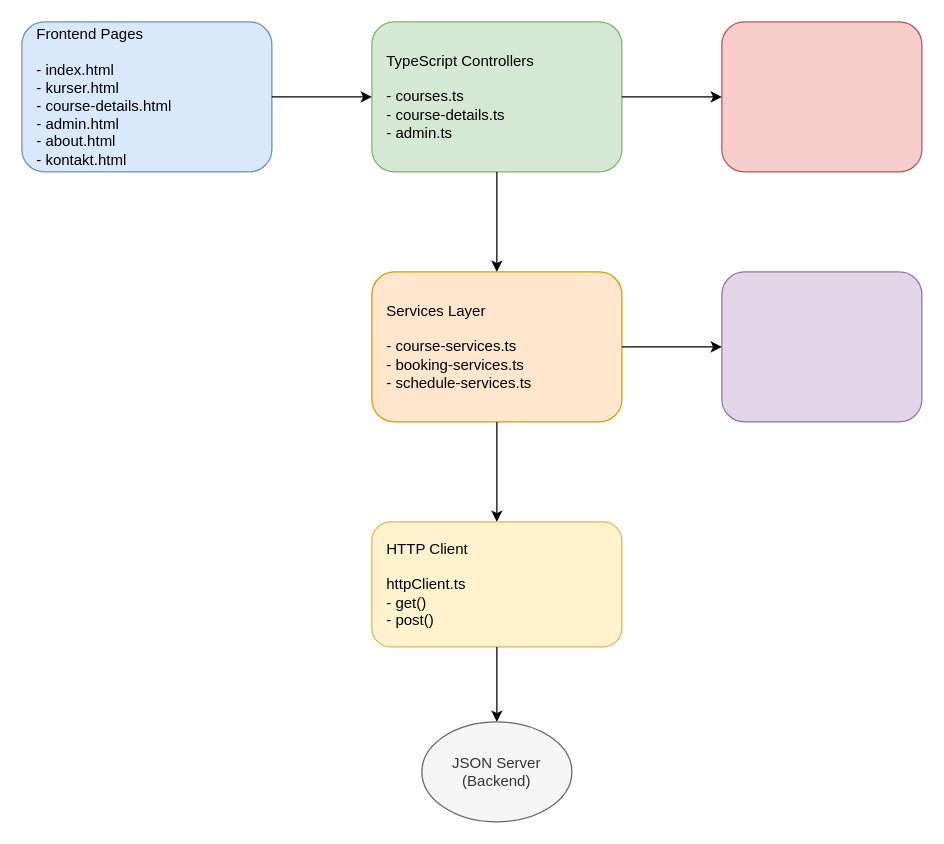
Some shapes in this 944 by 844 pixel diagram are drawn without their labels. The centre of each missing label's shape, as x and y in pixels:
Models - ICourse - IBooking - ISchedule: point 821,346
Utils dom.ts - displayMessage() - displayError() - createCourseElement(): point 821,96
